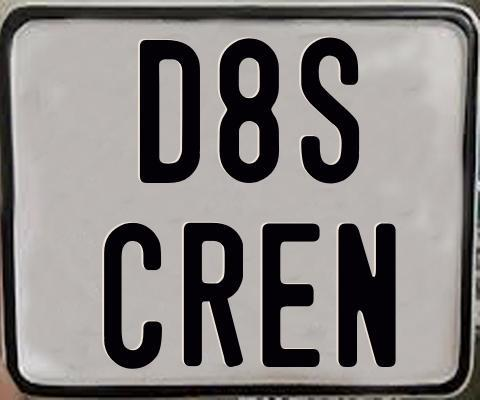8: (219, 35, 284, 185)
C: (104, 220, 167, 369)
D: (138, 40, 202, 188)
E: (260, 222, 323, 367)
N: (338, 223, 400, 370)
R: (182, 221, 241, 371)
S: (298, 34, 361, 181)
